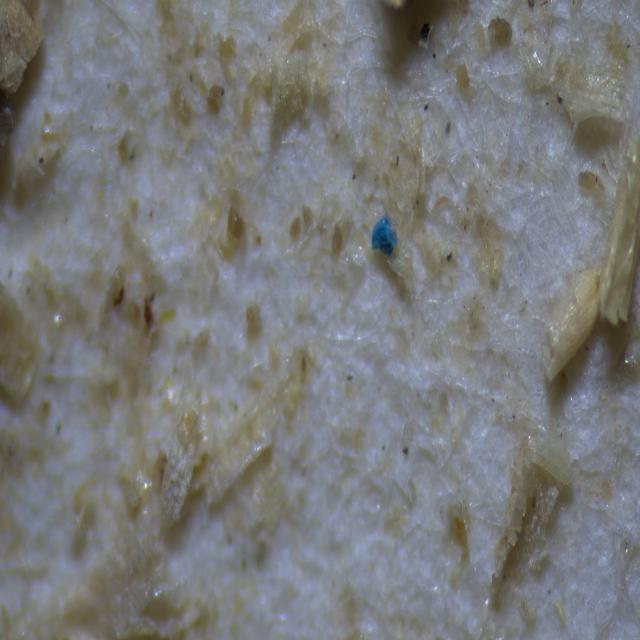microplastic: (360, 218, 403, 267)
